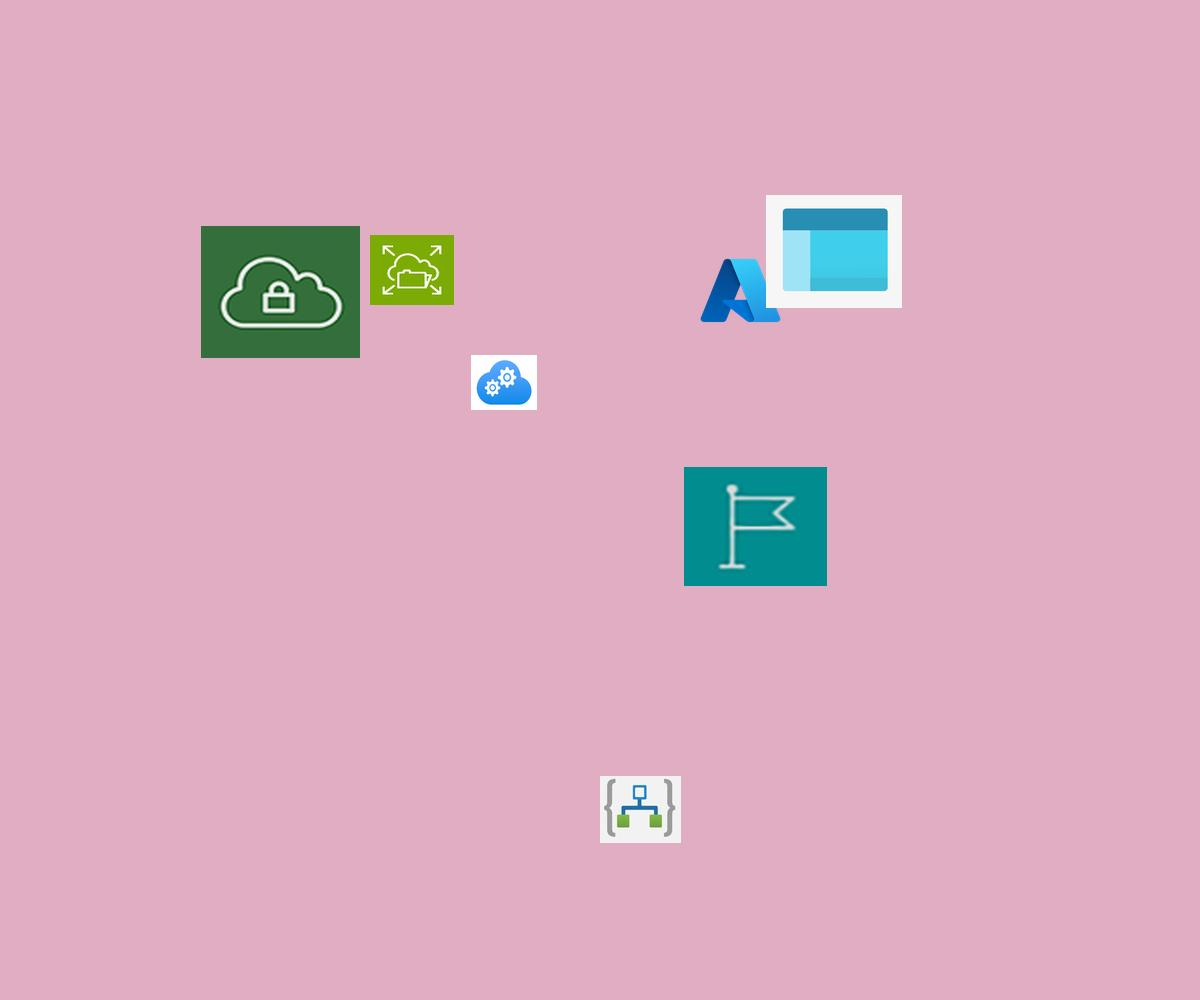AWS-EFS: (370, 235, 454, 305)
AWS-Private_vpc: (201, 226, 360, 358)
AWS-Region: (684, 467, 827, 586)
Azure_cloud_services: (471, 355, 537, 410)
Azure_integration-204-Logic-Apps: (600, 776, 681, 843)
Azure_management-portal: (766, 195, 902, 308)
Azure_services: (697, 254, 784, 327)
